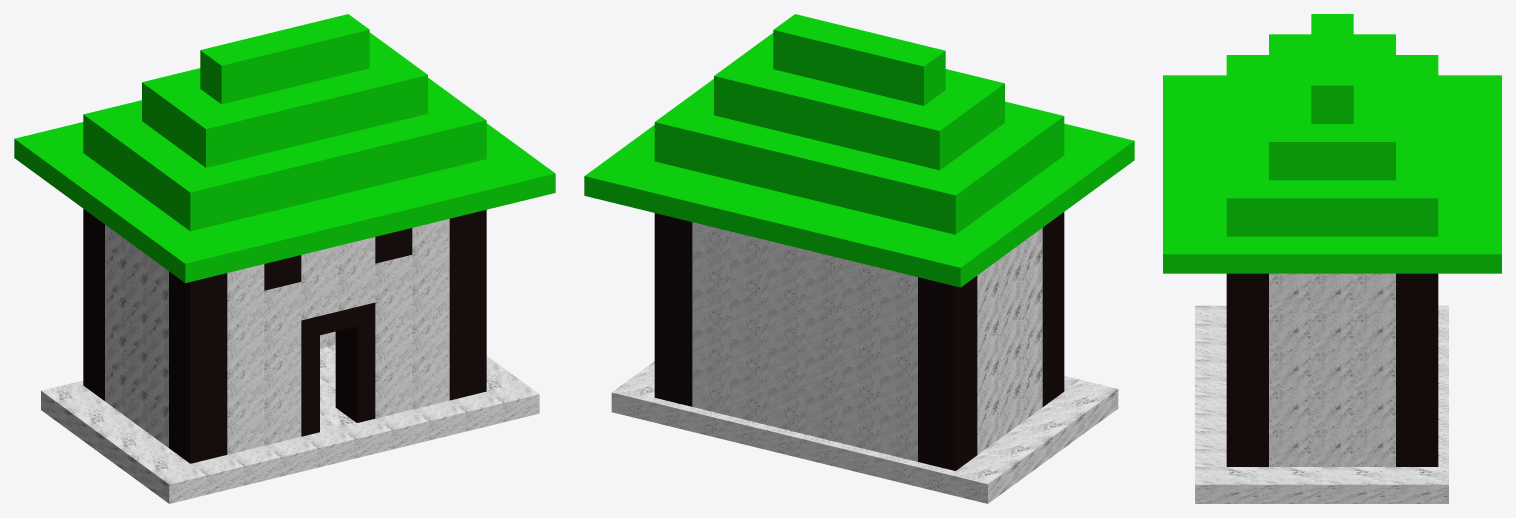
3 views of the same model, side by side, from view 1: azimuth 30°, elevation 25°; view 2: azimuth 150°, elevation 25°; view 3: azimuth 270°, elevation 25° (orthographic). The views are drawn at different scales.
Visible parts, largest first — view 1: Window_block60, Window_block75, Window_block74, Concrete_block496, Concrete_block590, Concrete_block603, Concrete_block505, Concrete_block507, Concrete_block514, Concrete_block506, Window_block50, Window_block55 (+97 smaller); view 2: Window_block75, Window_block72, Window_block64, Concrete_block563, Concrete_block591, Concrete_block603, Concrete_block574, Concrete_block573, Concrete_block572, Concrete_block571, Window_block66, Window_block54 (+97 smaller); view 3: Concrete_block601, Window_block76, Window_block54, Window_block53, Window_block52, Window_block51, Window_block50, Window_block70, Window_block71, Window_block69, Concrete_block598, Concrete_block583 (+85 smaller).
Part boxes in pixels (x1=…): Window_block60: x1=169, y1=168, x2=227, y2=231; Window_block75: x1=200, y1=41, x2=258, y2=104; Window_block74: x1=184, y1=104, x2=242, y2=167; Concrete_block496: x1=137, y1=452, x2=206, y2=503; Concrete_block590: x1=153, y1=231, x2=222, y2=282; Concrete_block603: x1=78, y1=176, x2=157, y2=235; Concrete_block505: x1=169, y1=293, x2=227, y2=347; Concrete_block507: x1=169, y1=371, x2=227, y2=424; Concrete_block514: x1=169, y1=410, x2=227, y2=463; Concrete_block506: x1=169, y1=332, x2=227, y2=386; Window_block50: x1=428, y1=105, x2=486, y2=167; Window_block55: x1=206, y1=159, x2=264, y2=222; Window_block75: x1=886, y1=41, x2=945, y2=105; Window_block72: x1=902, y1=106, x2=961, y2=170; Window_block64: x1=918, y1=170, x2=977, y2=234; Concrete_block563: x1=950, y1=451, x2=1020, y2=503; Concrete_block591: x1=923, y1=235, x2=993, y2=287; Concrete_block603: x1=989, y1=179, x2=1069, y2=239; Concrete_block574: x1=918, y1=298, x2=977, y2=352; Concrete_block573: x1=918, y1=337, x2=977, y2=392; Concrete_block572: x1=918, y1=377, x2=977, y2=431; Concrete_block571: x1=918, y1=416, x2=977, y2=470; Window_block66: x1=751, y1=69, x2=810, y2=133; Window_block54: x1=654, y1=106, x2=713, y2=170; Concrete_block601: x1=1290, y1=236, x2=1374, y2=273; Window_block76: x1=1311, y1=67, x2=1353, y2=123; Window_block54: x1=1396, y1=180, x2=1438, y2=236; Window_block53: x1=1353, y1=180, x2=1395, y2=236; Window_block52: x1=1311, y1=180, x2=1353, y2=236; Window_block51: x1=1269, y1=180, x2=1311, y2=236; Window_block50: x1=1226, y1=180, x2=1268, y2=236; Window_block70: x1=1311, y1=124, x2=1353, y2=180; Window_block71: x1=1269, y1=124, x2=1311, y2=180; Window_block69: x1=1353, y1=124, x2=1395, y2=180; Concrete_block598: x1=1438, y1=236, x2=1501, y2=273; Concrete_block583: x1=1163, y1=236, x2=1226, y2=273.
Size of the model in its own units: 10 by 9.5 by 8.
